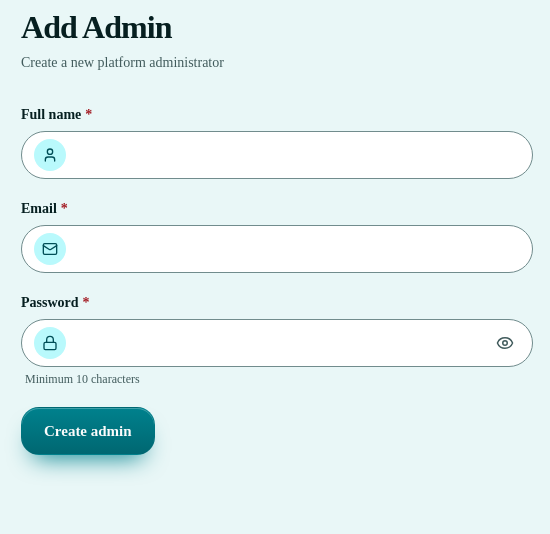
Test: CreateAdminForm › refuses an empty form
What coordinates should you click on to do the following:
click the button "Create admin"
I would click on:
 (88, 431)
Its box is [21, 407, 155, 455].
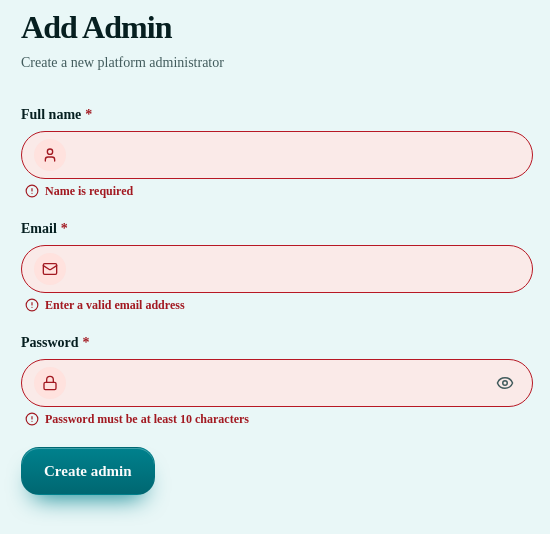
Check: the text "Name is required" is shown, box [25, 184, 133, 198]
